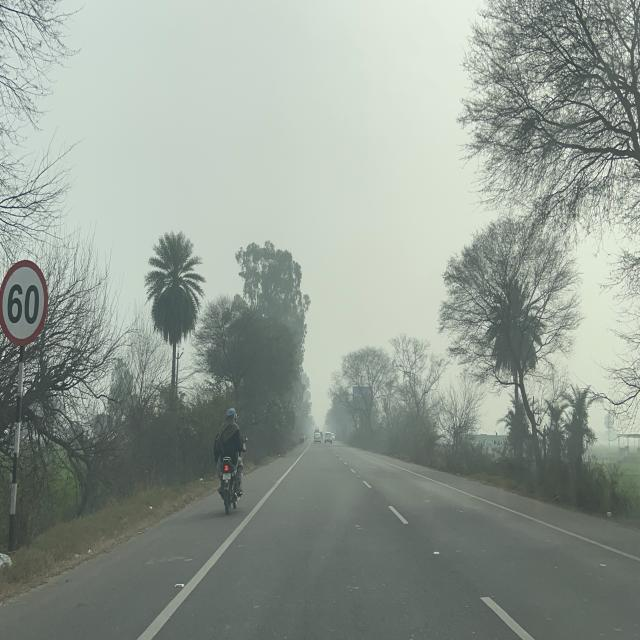SPEED_LIMIT_60: (1, 257, 49, 348)
